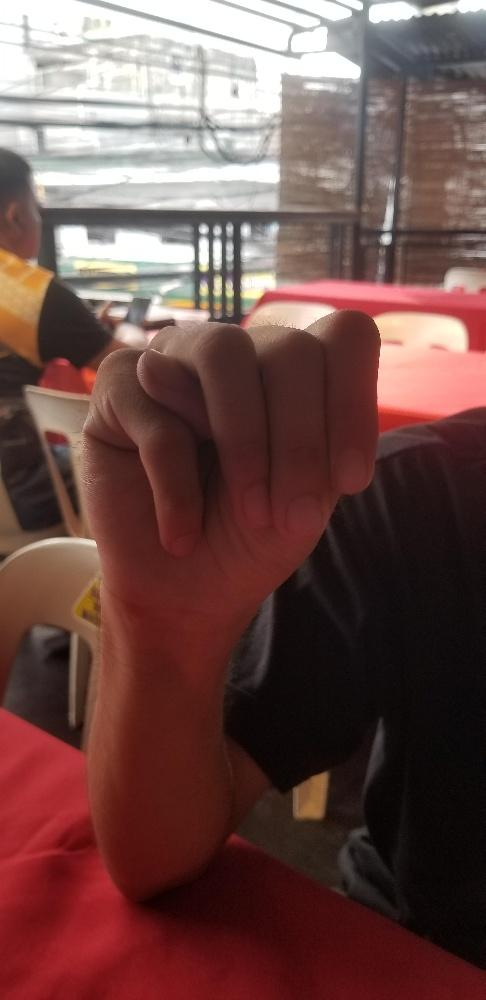m: (73, 304, 383, 625)
